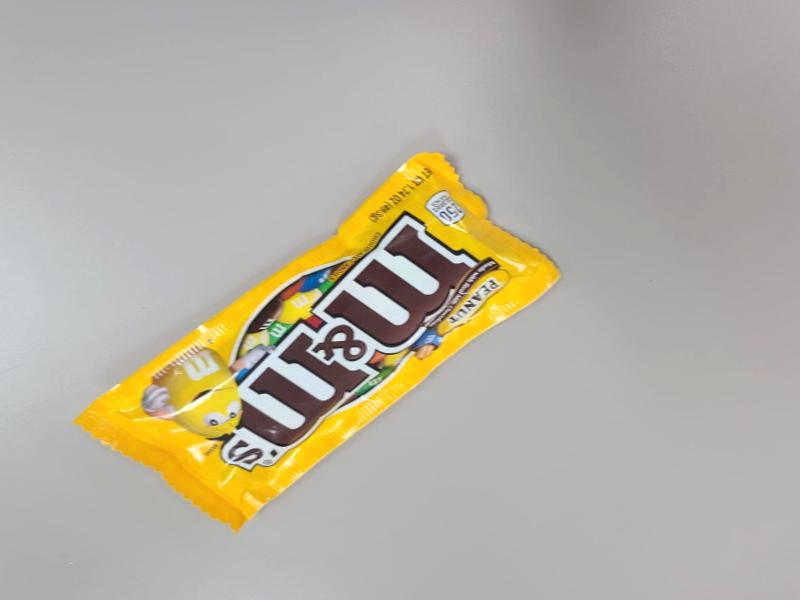m&m: (193, 285, 626, 540)
